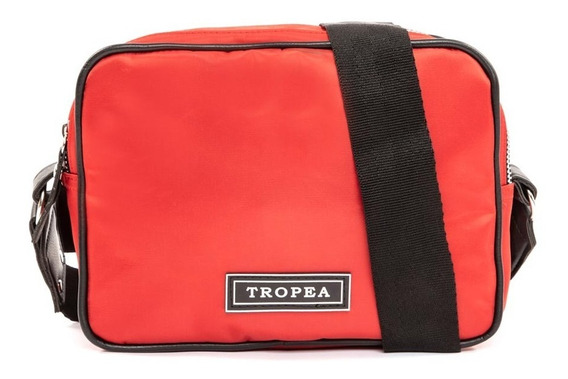cartera: (26, 16, 539, 355)
